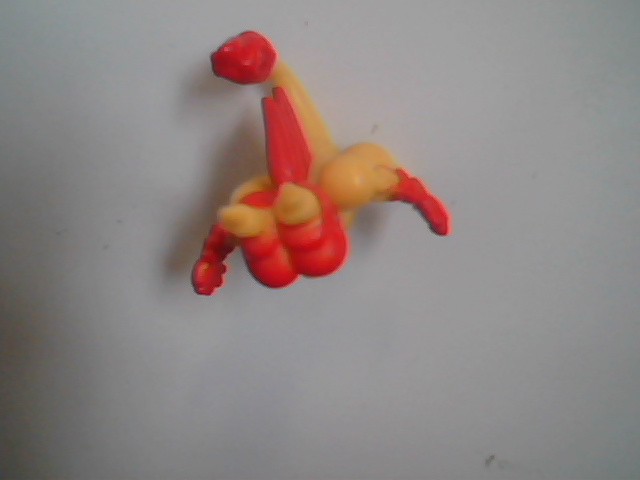magmar: (99, 14, 472, 382)
